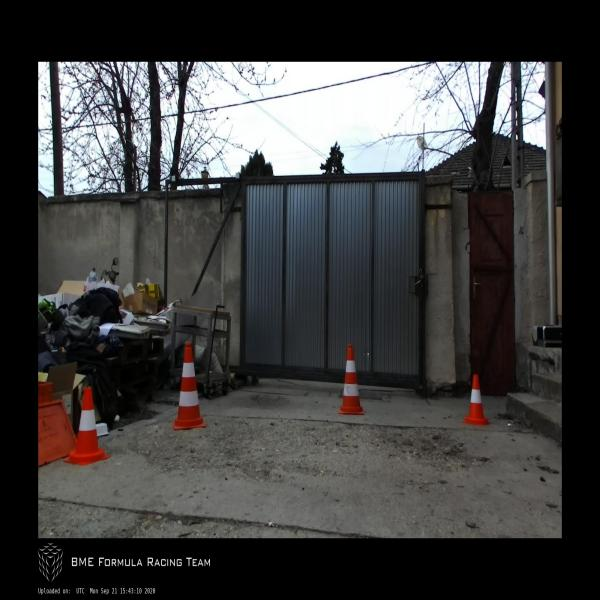large_orange_cone: (174, 342, 206, 429), (339, 344, 364, 414)
orange_cone: (64, 389, 110, 464), (462, 375, 491, 425)
